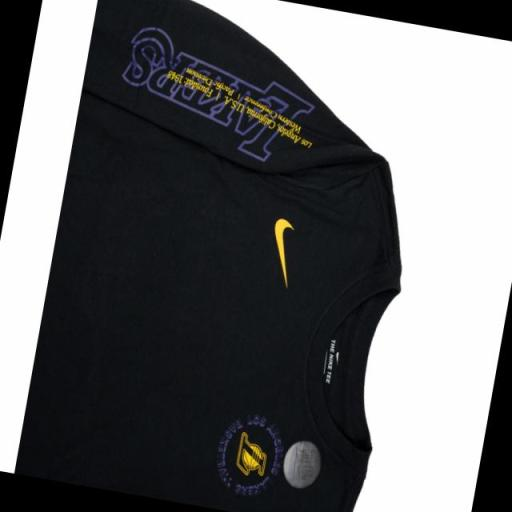Nike: (260, 214, 299, 291)
